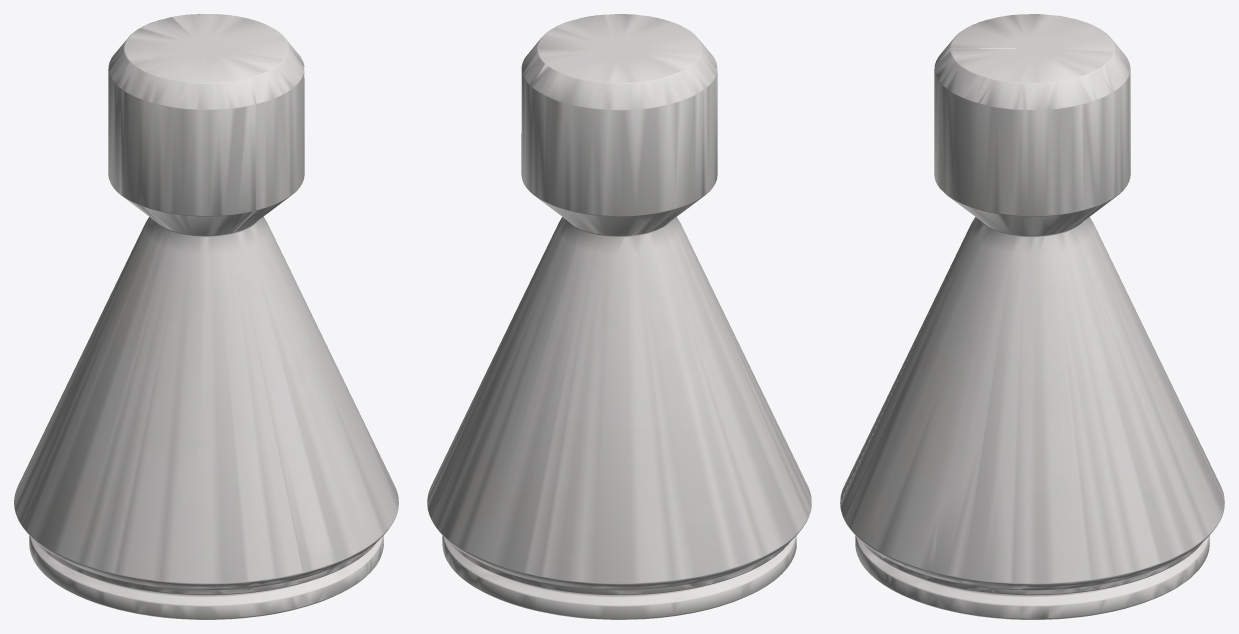
File: pawn-white.glb
3 renders of one model, left to right at view 1: azimuth 30°, elevation 25°; view 2: azimuth 150°, elevation 25°; view 3: azimuth 270°, elevation 25°, orthographic.
Visible parts, largest first — view 1: 06_pesec_bila; view 2: 06_pesec_bila; view 3: 06_pesec_bila.
Boxes of the visible parts, box(x1,y1,x2,y2) form: 06_pesec_bila: box(14, 14, 398, 619); 06_pesec_bila: box(427, 14, 811, 619); 06_pesec_bila: box(840, 14, 1224, 619).
Bounding box in the file's own units: 0.6157 × 0.88 × 0.6157.
1 material, 1 textured.
